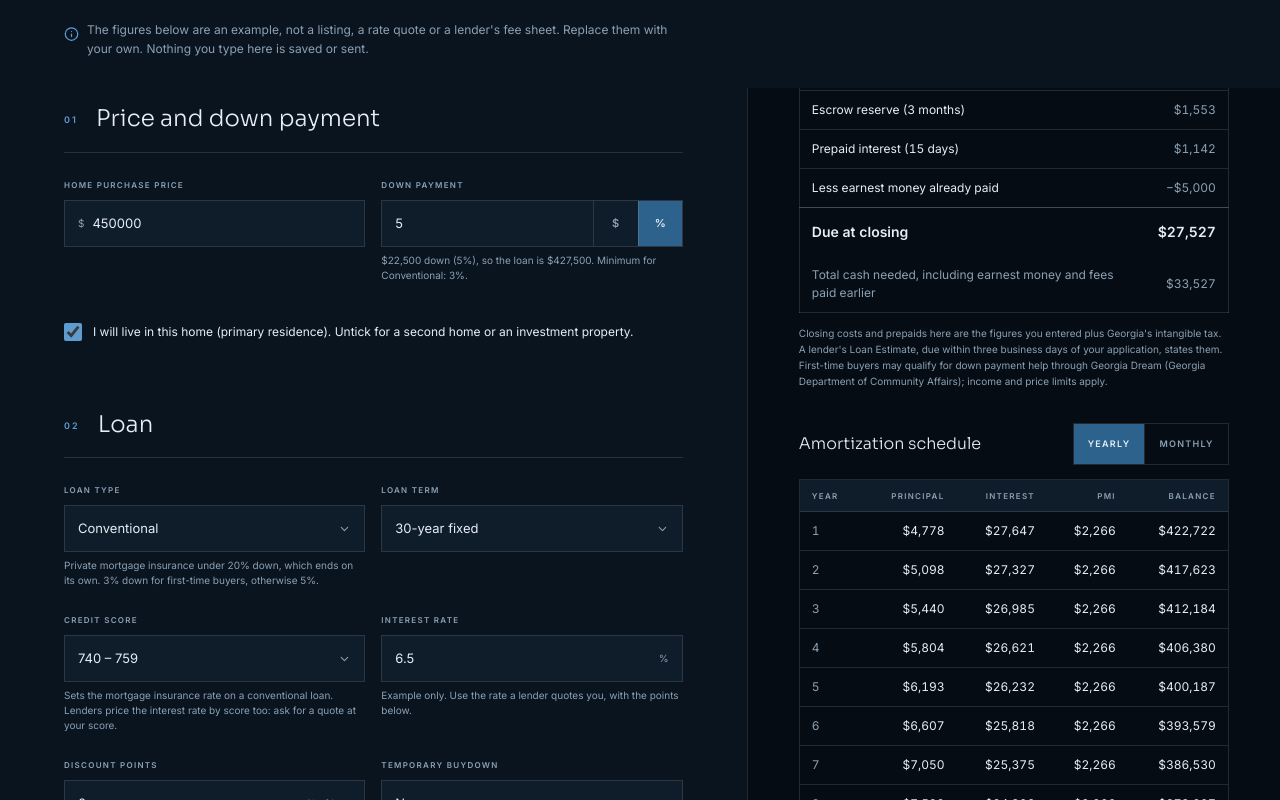
the schedule switches between yearly and monthly rows
Later steps or results of the test are not shown.
(page scrolled)
Expected: the row "1 $4,778 $27,647 $2,266 $422,722" is shown, [800, 512, 1228, 550]
Click the button "Monthly": (1186, 444) [1144, 424, 1228, 464]
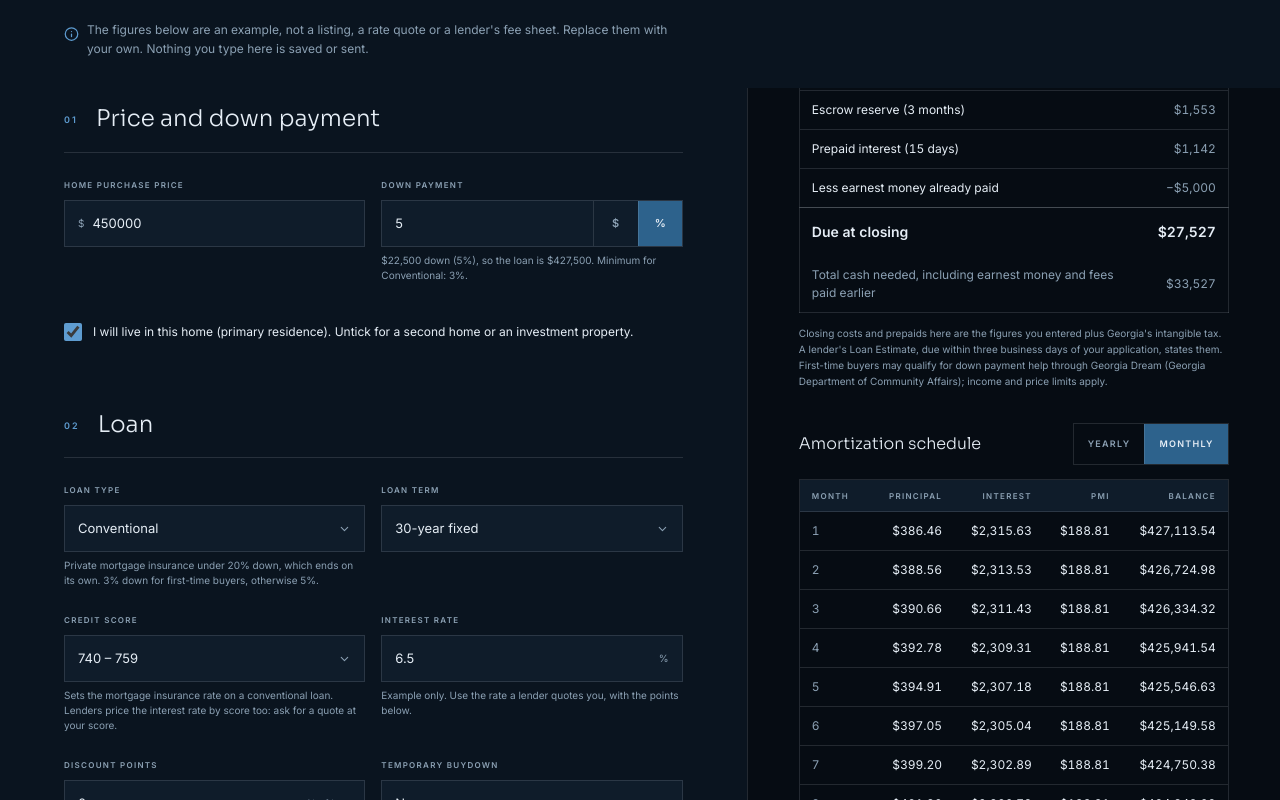
Expected: the row "1 $386.46 $2,315.63 $188.81 $427,113.54" is shown, [800, 512, 1228, 550]
